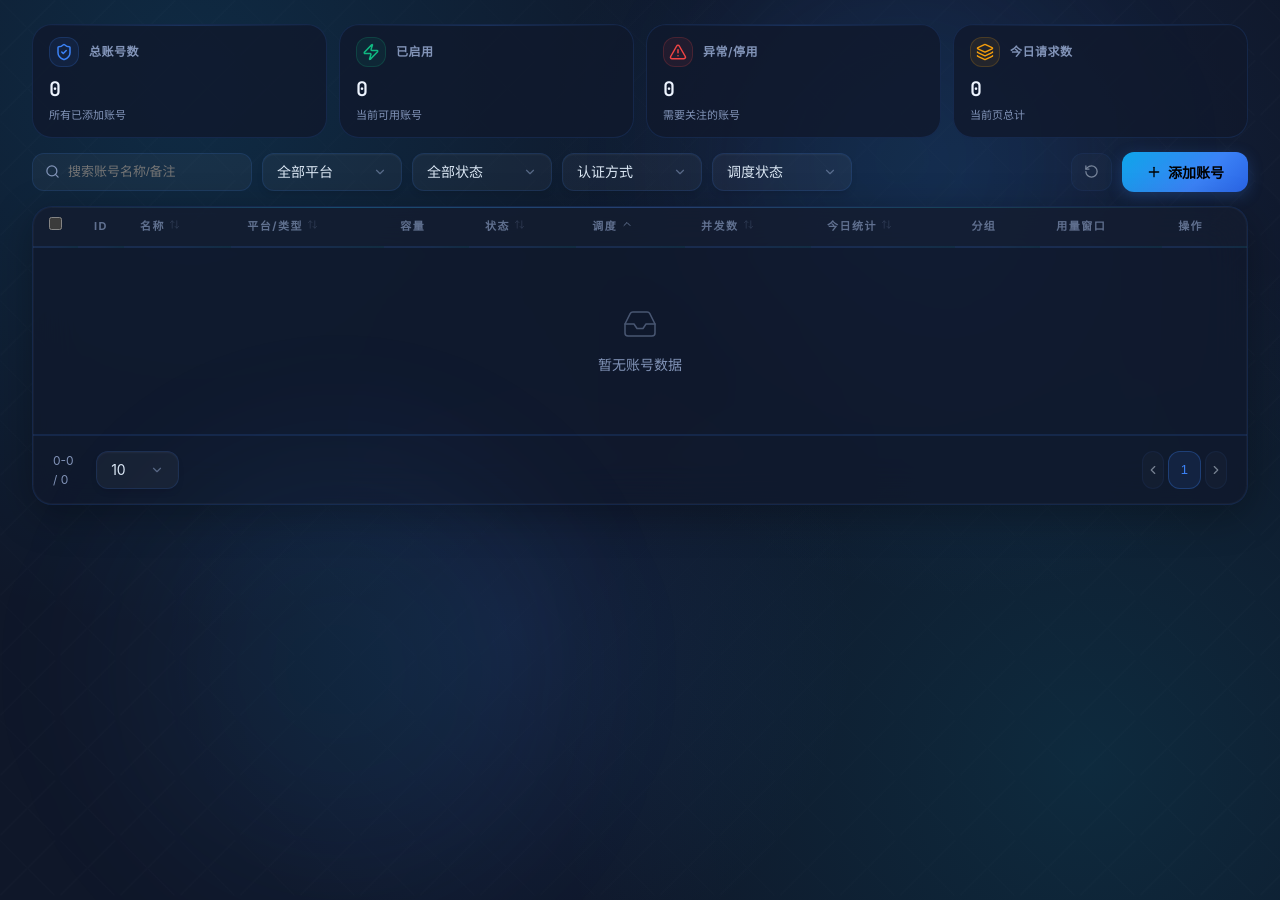
Scenario: Accounts page › shows readable Chinese labels in create account wizard
Click the button "添加账号": [1185, 172] box [1122, 152, 1248, 192]
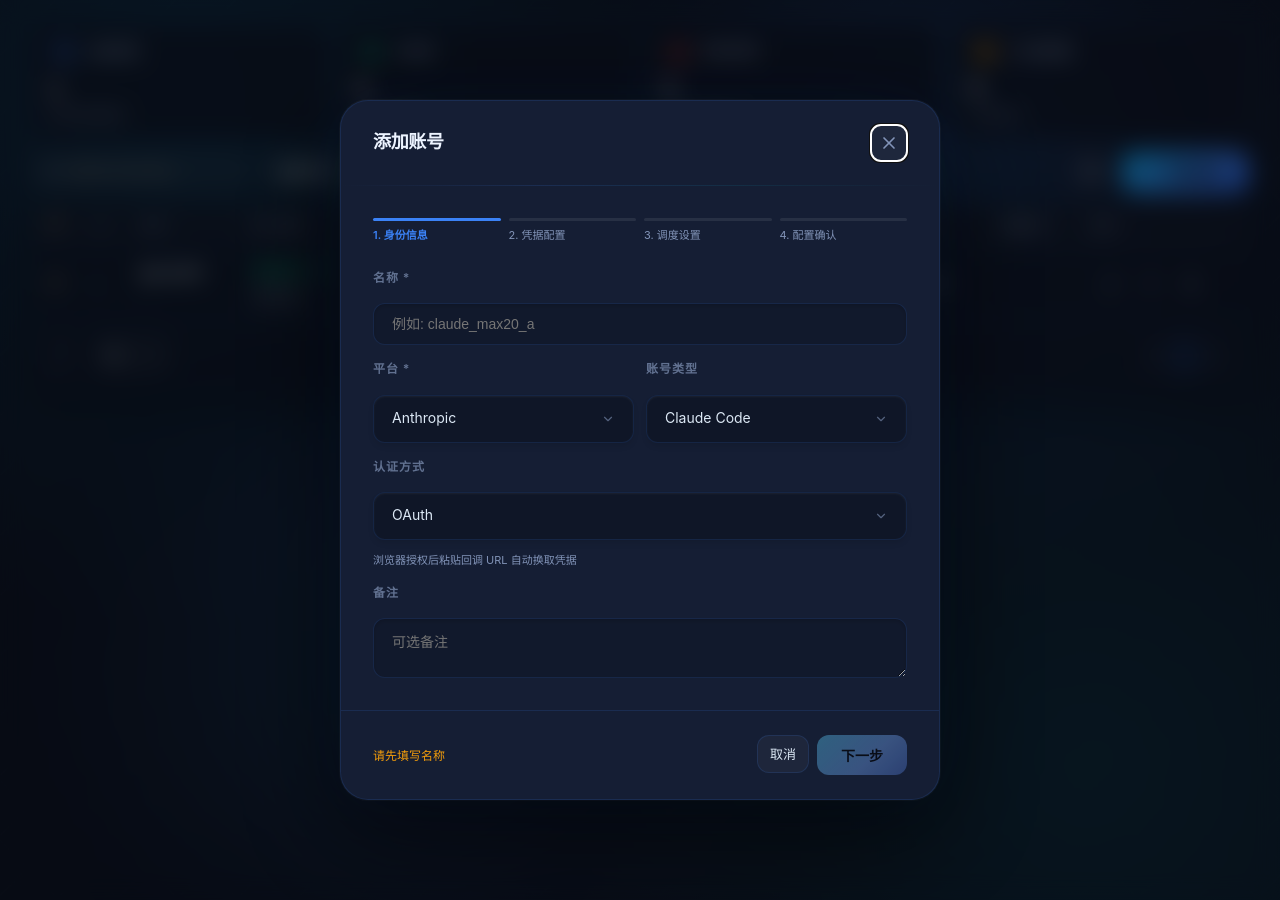
Check: the text "名称 *" is shown, box [373, 270, 411, 285]
Check: the text "平台 *" is shown, box [373, 361, 411, 376]
Check: the text "账号类型" is shown, box [646, 361, 698, 376]
